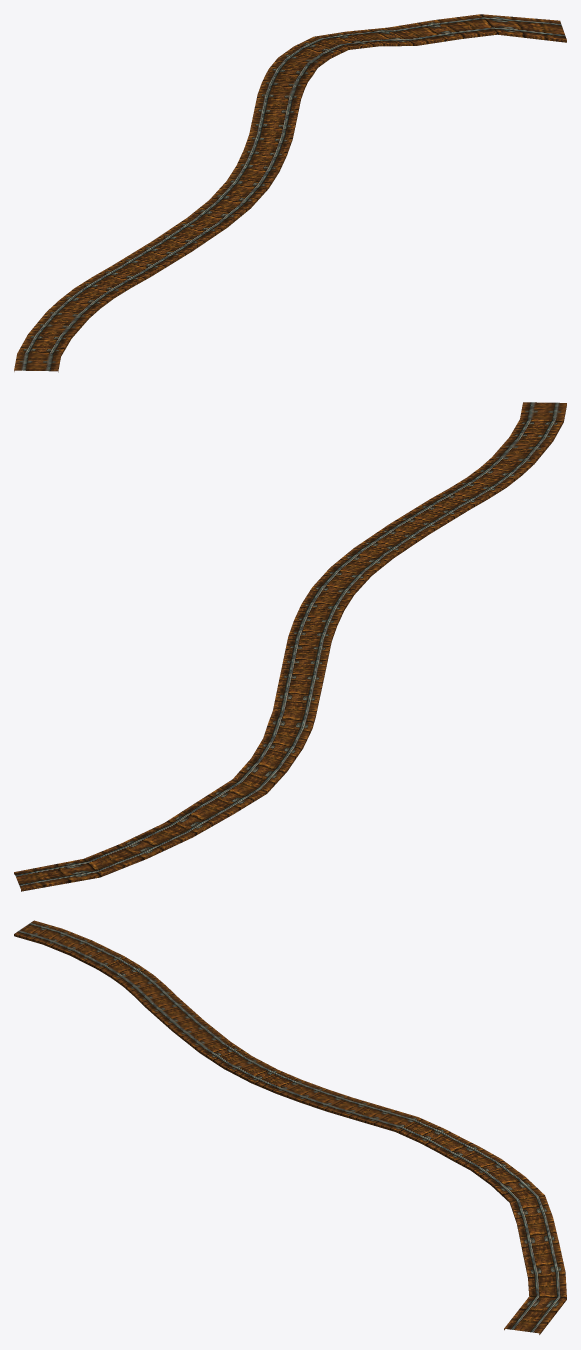
The model's file is OVERHILL_A_01_LINE256.fbx.
3 renders of one model, top to bottom at view 1: azimuth 30°, elevation 25°; view 2: azimuth 210°, elevation 25°; view 3: azimuth 270°, elevation 25°, orthographic. The views are drawn at different scales.
Visible parts, largest first — view 1: OVERHILL_A_01_LINE256; view 2: OVERHILL_A_01_LINE256; view 3: OVERHILL_A_01_LINE256.
Boxes of the visible parts, x1,y1,x2,y2 form: OVERHILL_A_01_LINE256: (14,14,566,372); OVERHILL_A_01_LINE256: (14,402,566,891); OVERHILL_A_01_LINE256: (14,920,566,1334).
Size of the model in its own units: 250526 by 20539 by 165412.
Materials: 1 (1 with a texture image).
